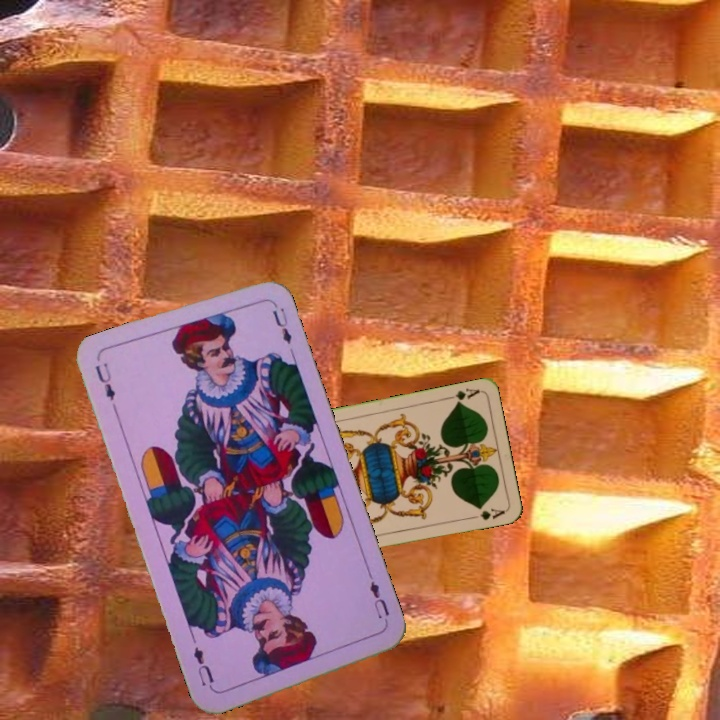EU: (364, 571, 392, 629), (91, 358, 118, 403)
GA: (442, 384, 482, 407)
